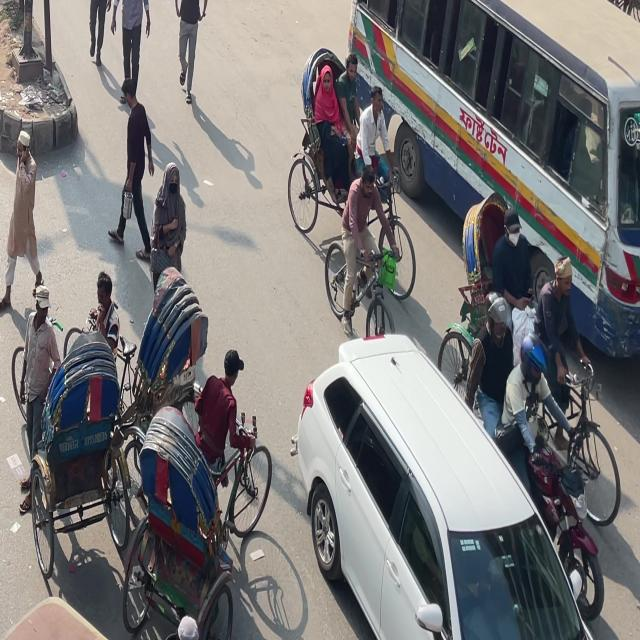bicycle: (524, 366, 627, 523), (328, 188, 420, 338), (286, 133, 344, 234)
bus: (342, 0, 638, 388)
car: (297, 331, 610, 638)
motorbike: (504, 366, 621, 623)
